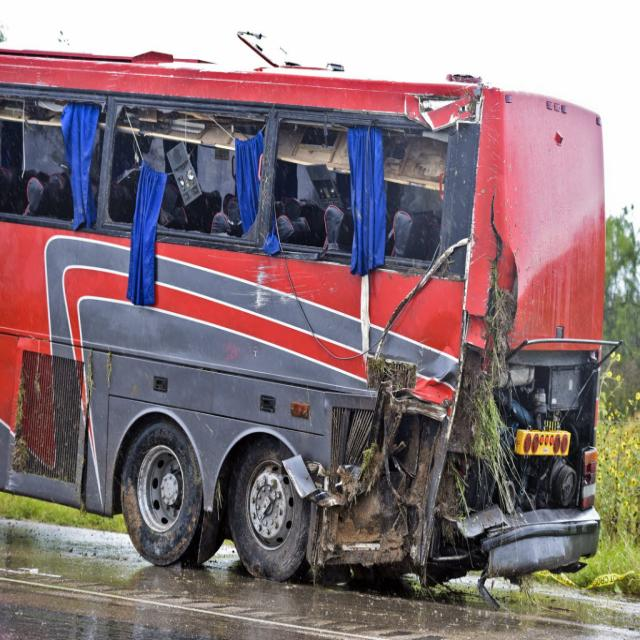Accident: (0, 30, 621, 594)
